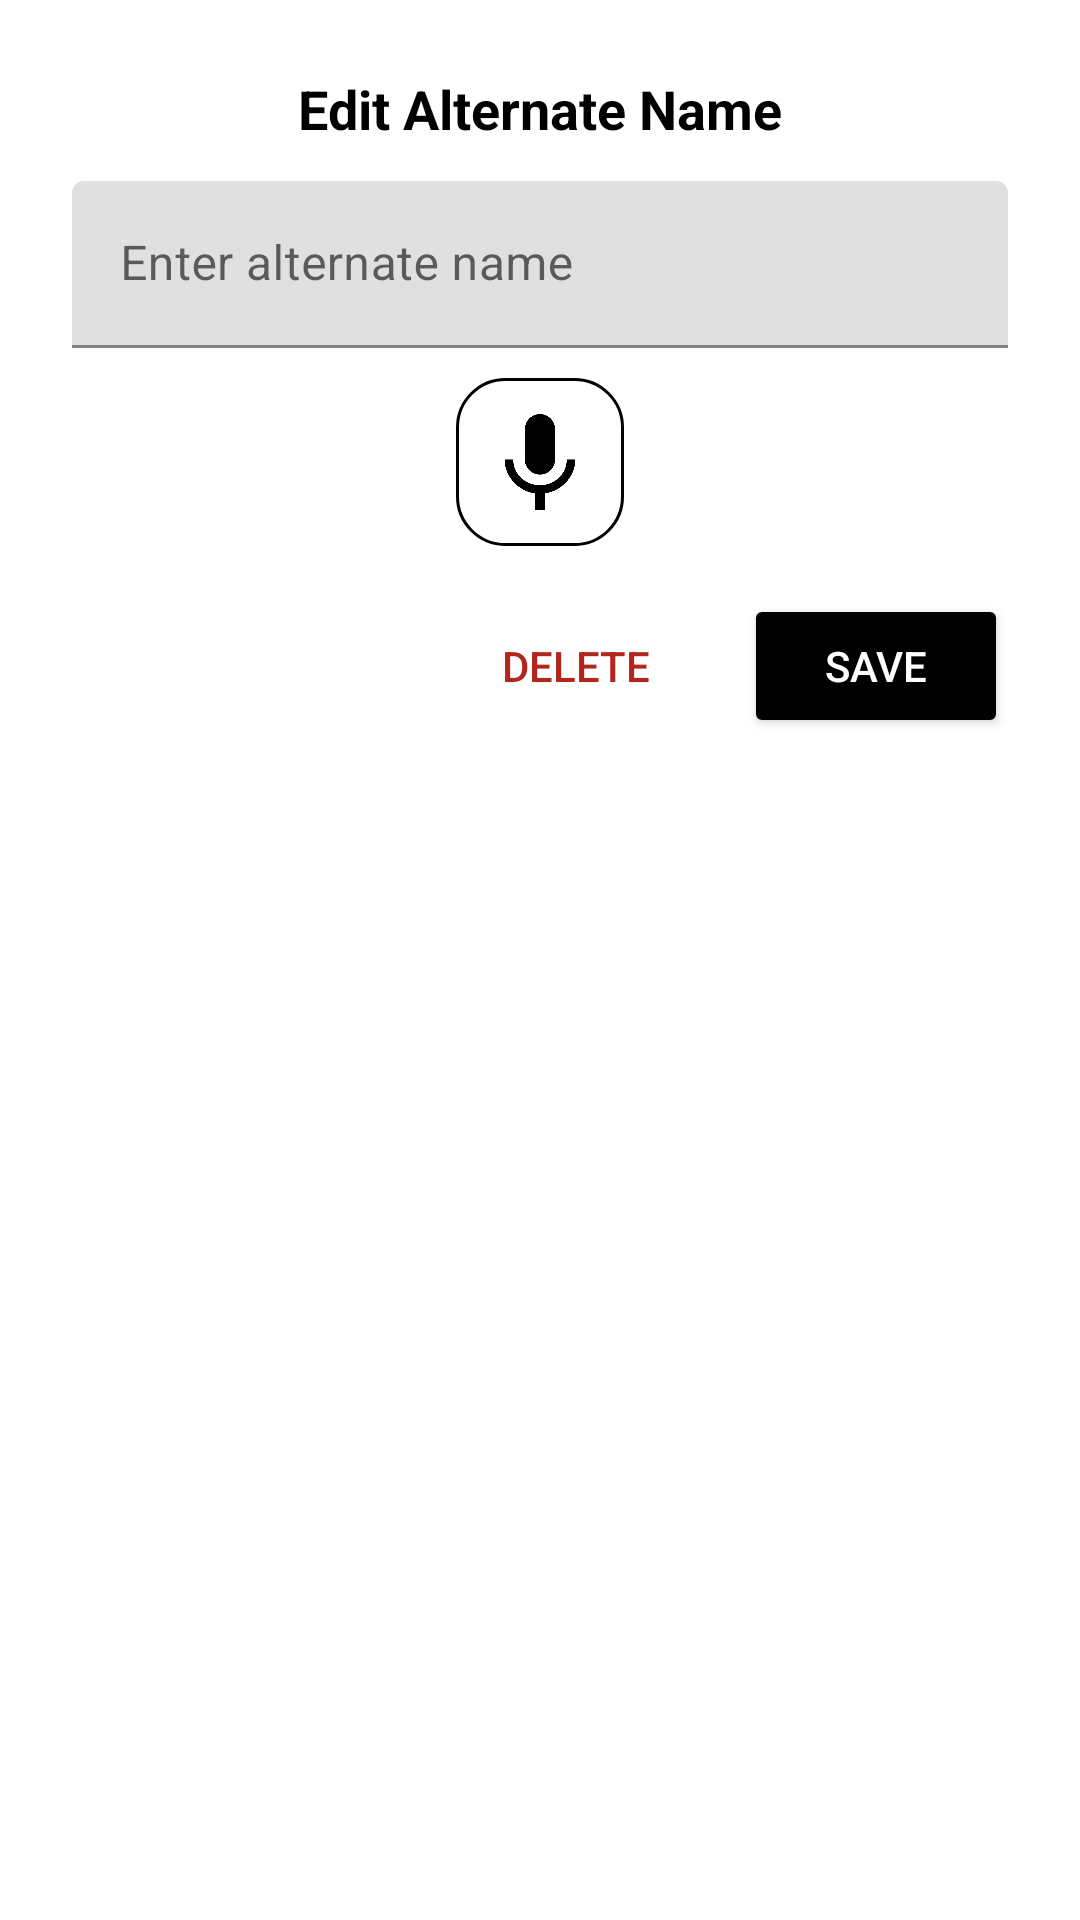

Icons on this 1080w x 1920h Android screen, each with the point to tap as (x,y):
Speech Input: (540,462)
